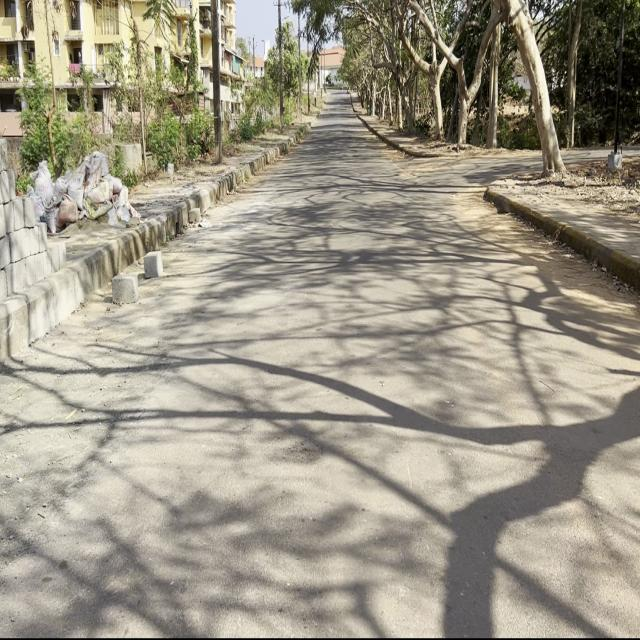Road: (4, 95, 636, 631)
